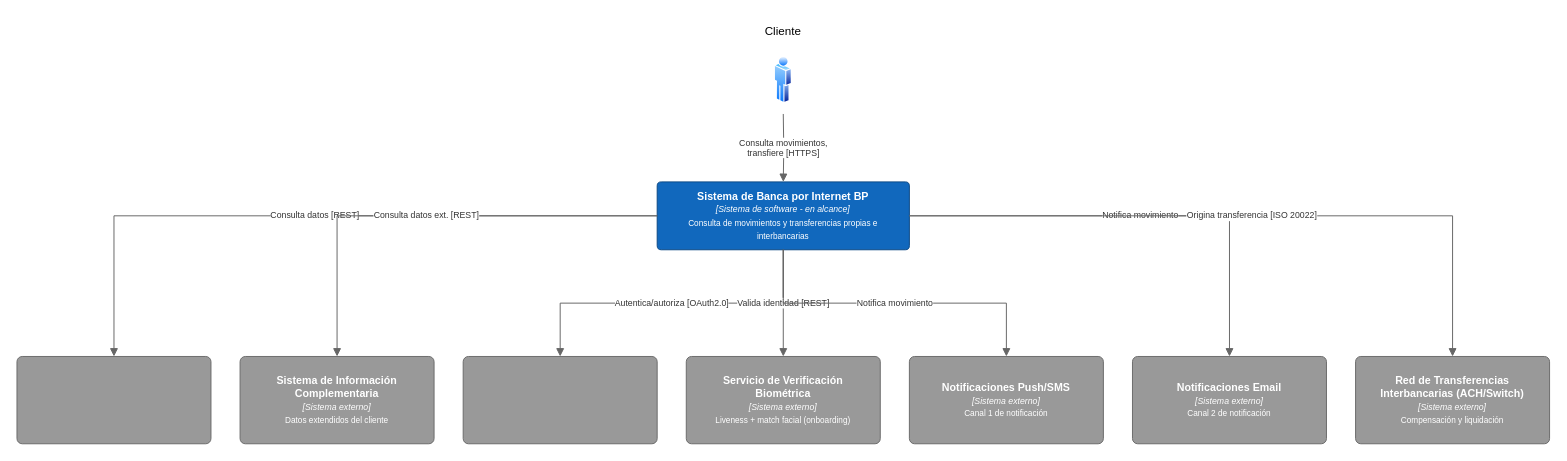
Some shapes in this 1567 by 461 pixel diagram are drawn without their labels. Here are the shapes that lost their labels. From the top down, the centre of each, then its label:
pixel 113 400: Core Bancario [Sistema externo] Fuente de verdad: productos y movimientos
pixel 559 400: Proveedor de Identidad (IdP) [Sistema externo - existente] OAuth 2.0 / OIDC
